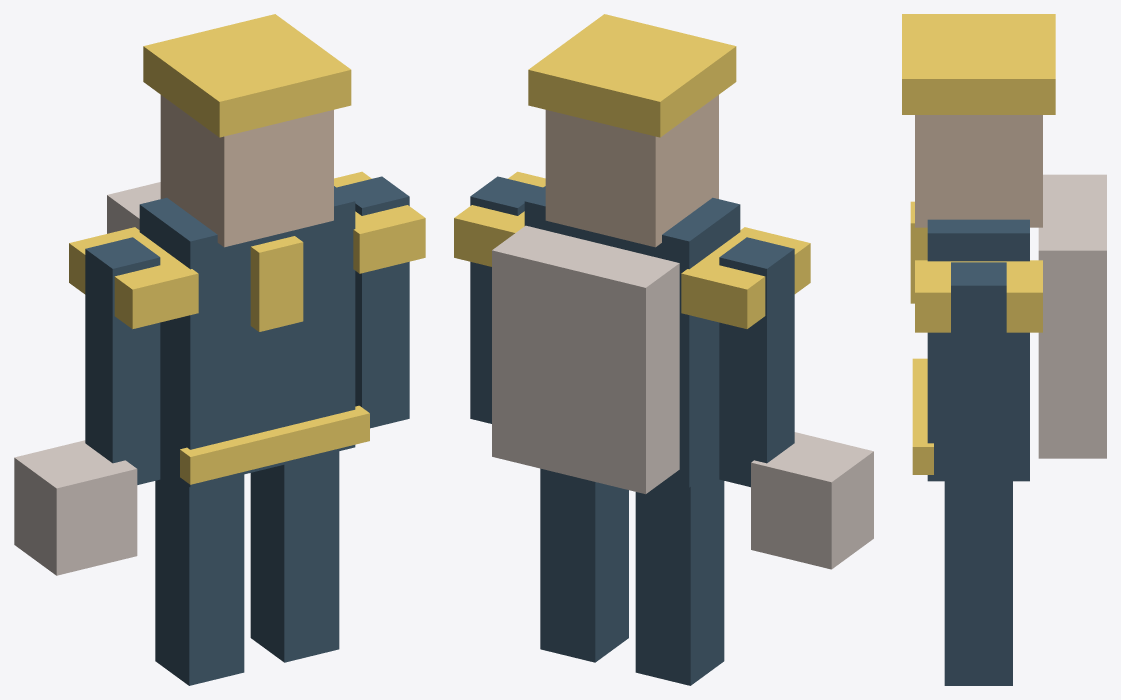
Rendered from 17_makoa_whispercoil_warden_from_geometry.glb.
3 renders of one model, left to right at view 1: azimuth 30°, elevation 25°; view 2: azimuth 150°, elevation 25°; view 3: azimuth 270°, elevation 25°, orthographic.
Visible parts, largest first — view 1: Makoa Whispercoil, Warden from Geometry; view 2: Makoa Whispercoil, Warden from Geometry; view 3: Makoa Whispercoil, Warden from Geometry.
Boxes of the visible parts, x1=… form: Makoa Whispercoil, Warden from Geometry: x1=14, y1=14, x2=425, y2=685; Makoa Whispercoil, Warden from Geometry: x1=454, y1=14, x2=873, y2=685; Makoa Whispercoil, Warden from Geometry: x1=902, y1=14, x2=1106, y2=685.
Size of the model in its own units: 1.08 by 1.69 by 0.5194.
